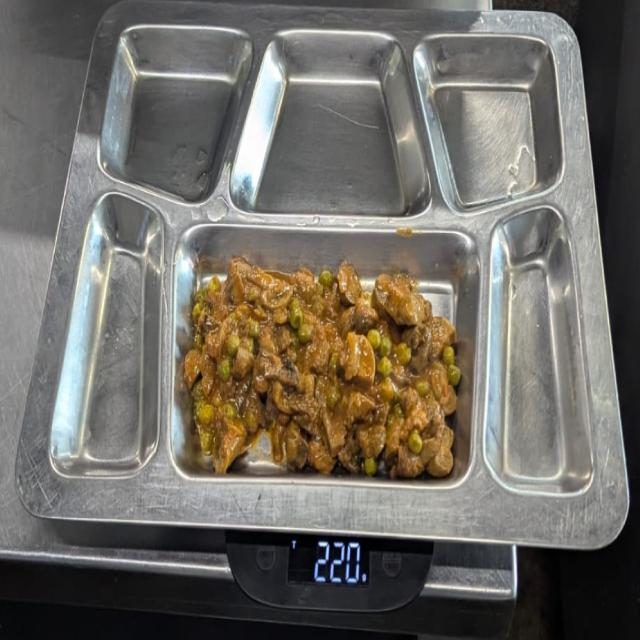Matar Mushroom: (196, 271, 454, 478)
